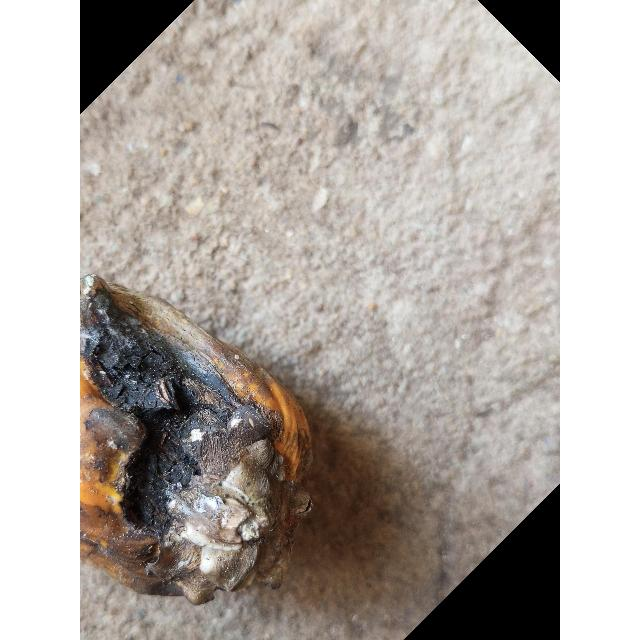damaged: (80, 275, 312, 604)
